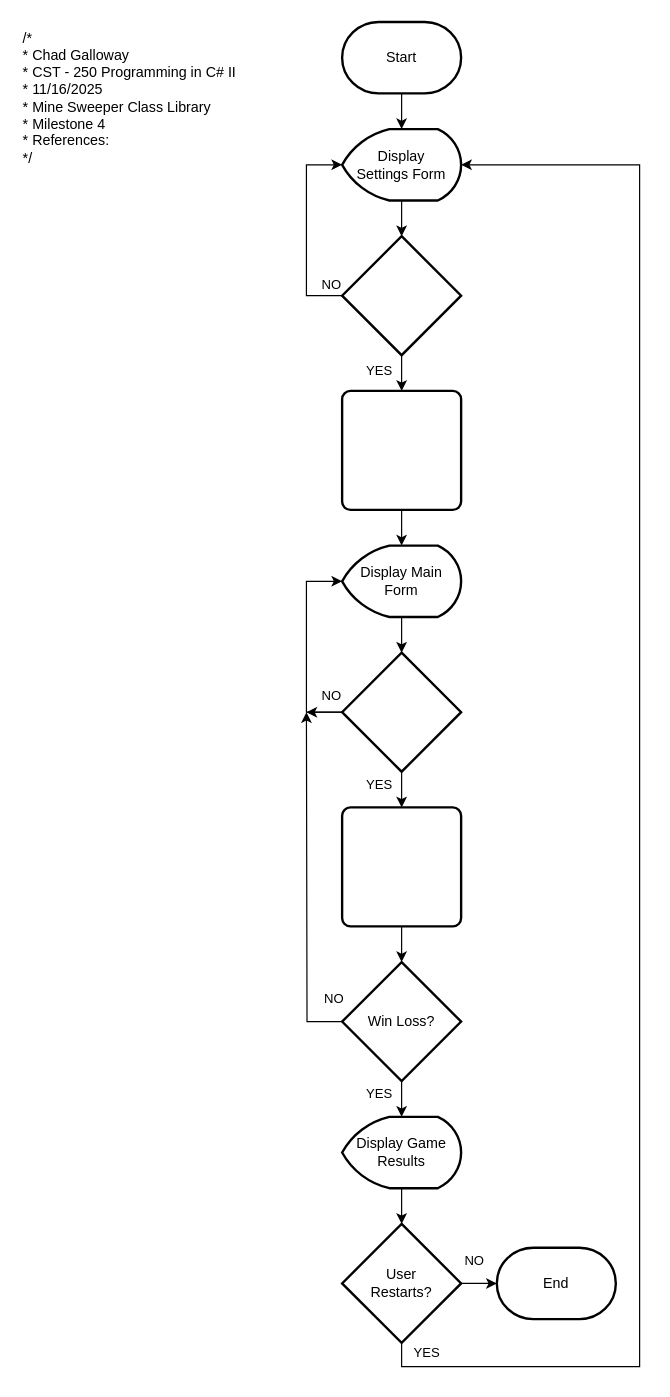
This 670x1397 diagram has some shape labels left out. Each missing label, with the centre of its shape:
Close Settings form. Create Main Form based on Settings data.: the point at 401,450
Process users action for win loss and repaint the board: the point at 401,866
User Clicked Play?: the point at 401,295
User made an action: the point at 401,711
